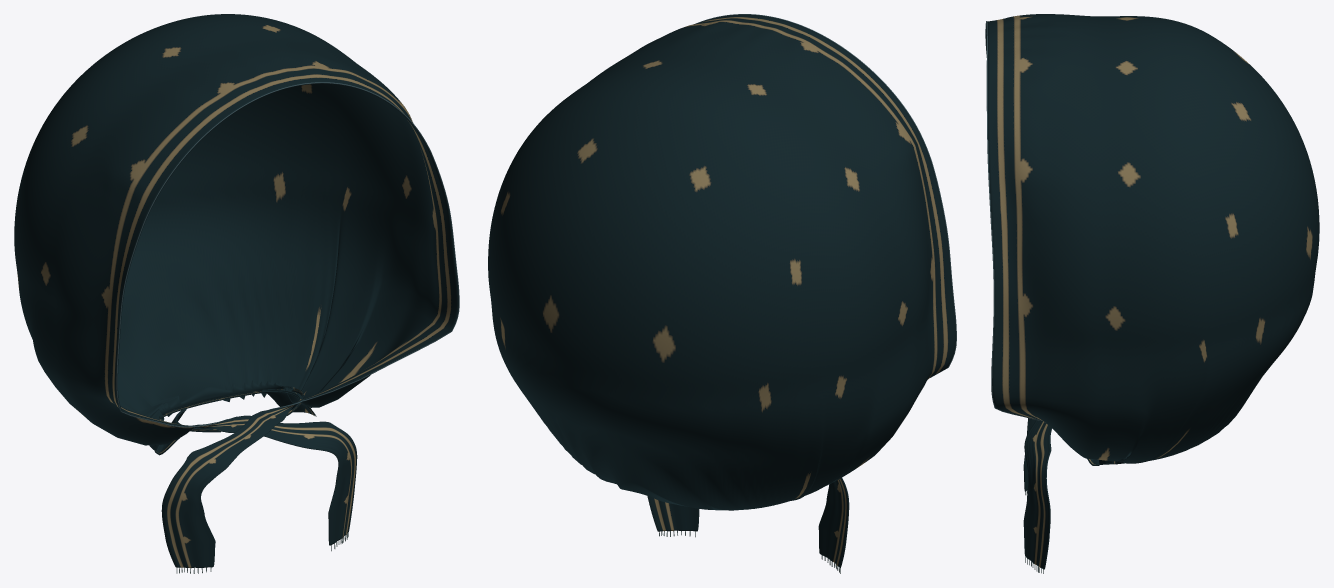
The model's file is Masculine-Masculine-taper-sweatshirt-pashmina250-headgear-9de84c16.glb.
The picture shows the model from 3 angles, left to right: view 1: azimuth 30°, elevation 25°; view 2: azimuth 150°, elevation 25°; view 3: azimuth 270°, elevation 25°; orthographic projection. The views are drawn at different scales.
Visible parts, largest first — view 1: 226 headgear / Headwear / continuous woven pashmina239, 226 headgear / Headwear / face edge239; view 2: 226 headgear / Headwear / continuous woven pashmina239, 226 headgear / Headwear / face edge239; view 3: 226 headgear / Headwear / continuous woven pashmina239, 226 headgear / Headwear / face edge239.
Part boxes in pixels (x1,y1,x2,y2): 226 headgear / Headwear / continuous woven pashmina239: [14, 14, 458, 567]; 226 headgear / Headwear / face edge239: [116, 82, 459, 427]; 226 headgear / Headwear / continuous woven pashmina239: [488, 14, 955, 567]; 226 headgear / Headwear / face edge239: [696, 14, 956, 377]; 226 headgear / Headwear / continuous woven pashmina239: [986, 14, 1319, 569]; 226 headgear / Headwear / face edge239: [985, 21, 1041, 420].
Size of the model in its own units: 1.07 by 1.4 by 0.8512.
Materials: 3 (1 with a texture image).
